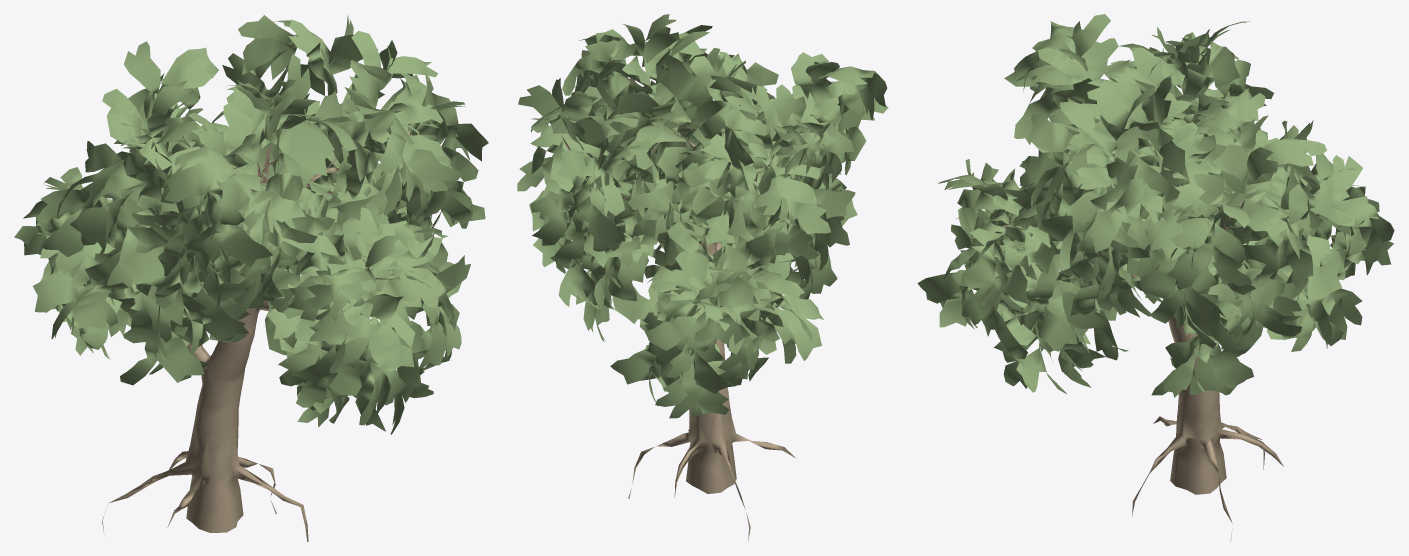
The model's file is willow.glb.
3 views of the same model, side by side, from view 1: azimuth 30°, elevation 25°; view 2: azimuth 150°, elevation 25°; view 3: azimuth 270°, elevation 25° (orthographic). The views are drawn at different scales.
Bounding box in the file's own units: 11.55 × 15.2 × 13.94.
